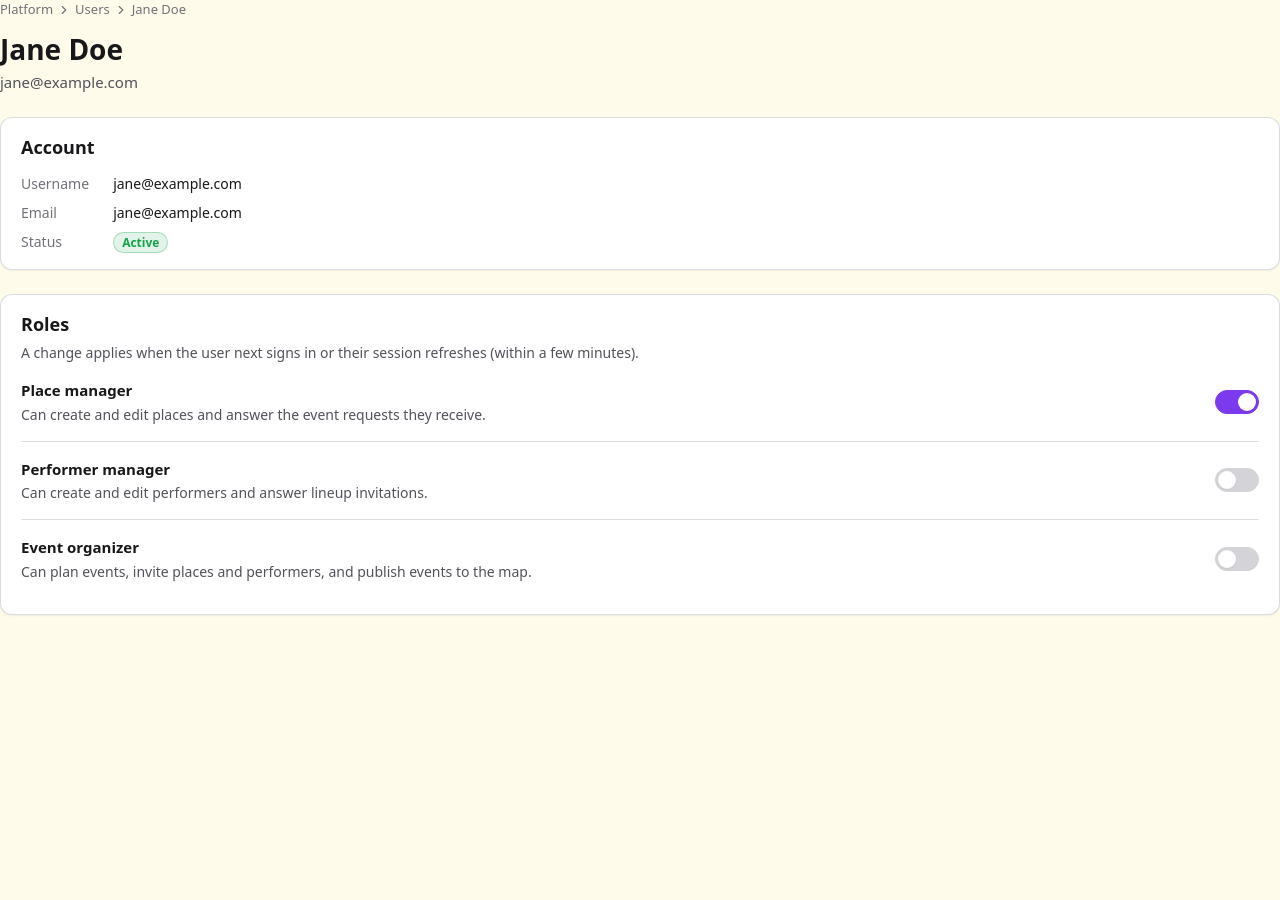
Test case: UserDetailPage › revokes a role after confirming
Click the switch named "Place manager" in the row of "Place manager" at (1237, 402), box [1215,390,1259,414]
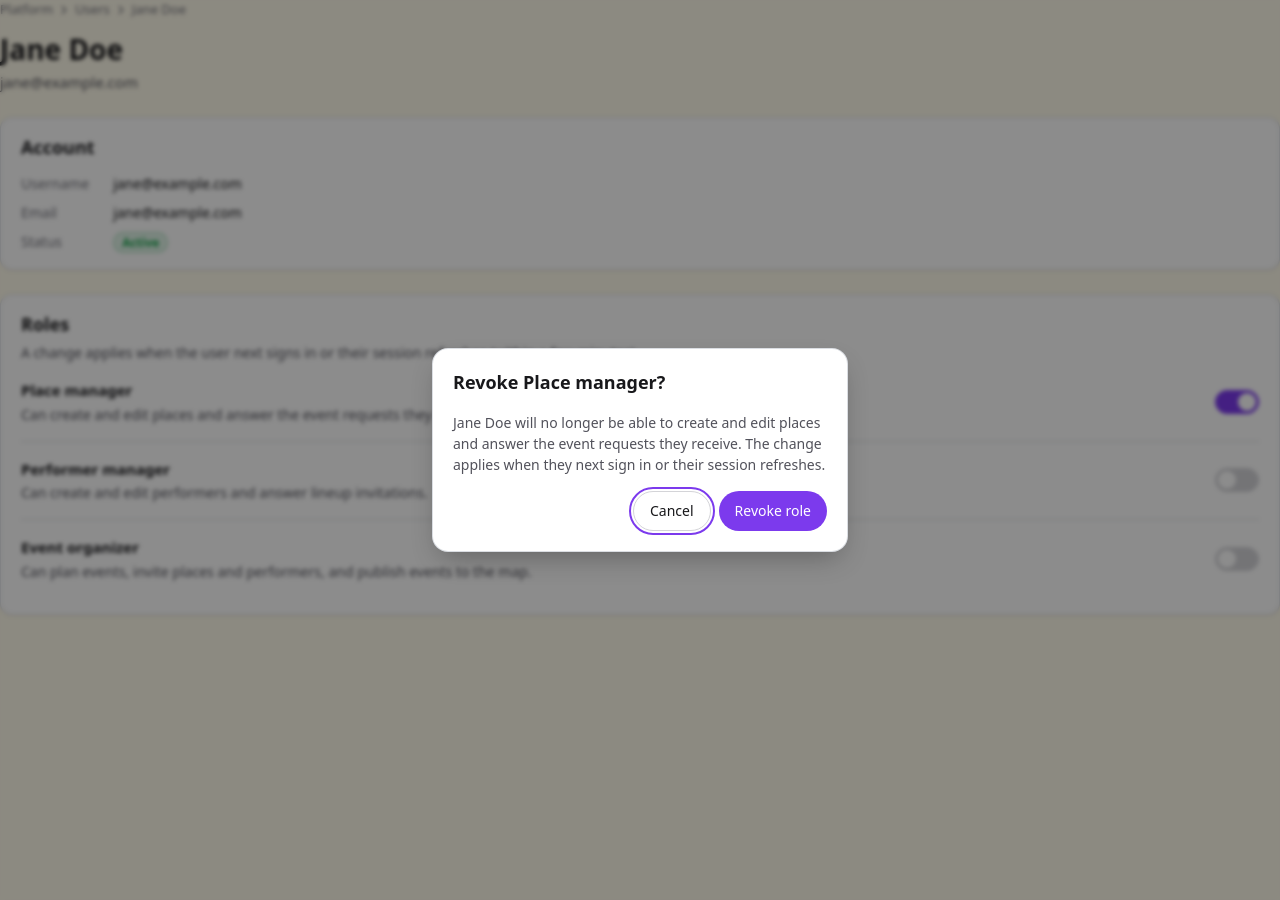
Now the dialog "Revoke Place manager?" shows "Jane Doe will no longer be able to create and edit places", box [453,413,825,474]
Click the button "Revoke role" at (773, 511), box [719,491,827,531]
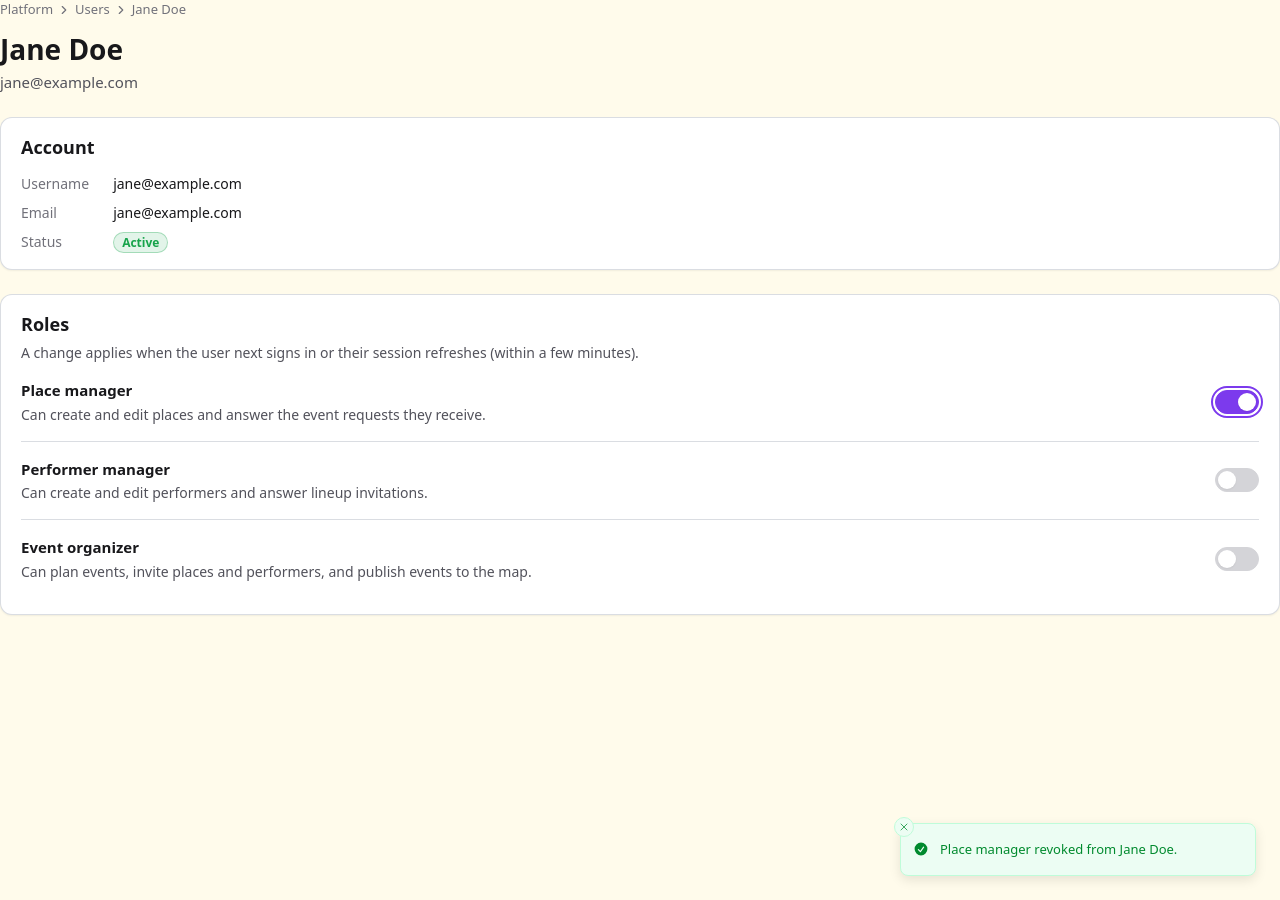
Now the text "Place manager revoked from Jane Doe." is shown, box [940,840,1177,859]
